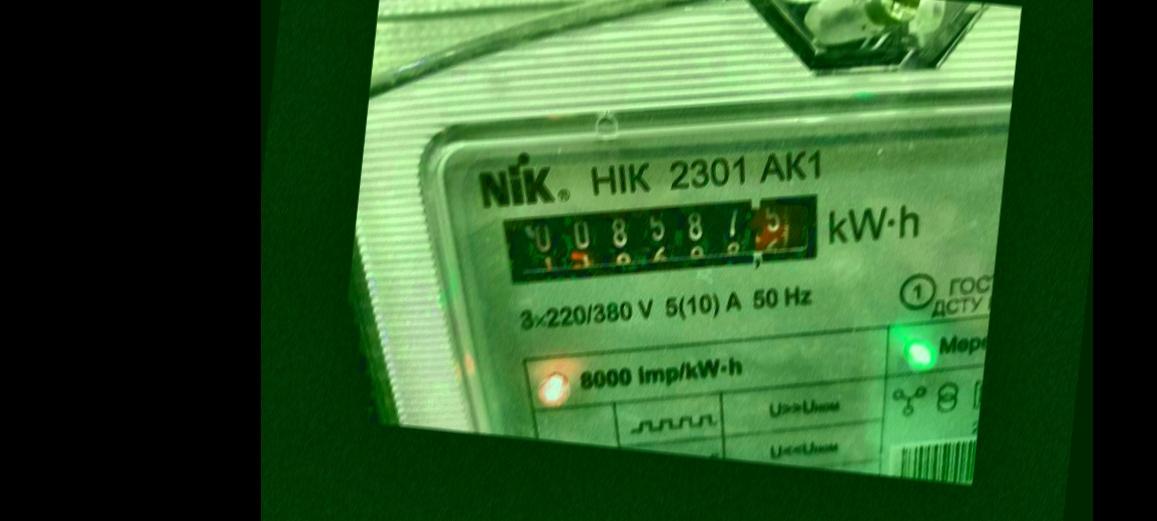0: (566, 214, 595, 250), (528, 218, 557, 252)
5: (643, 209, 669, 242), (759, 199, 784, 232)
6: (762, 234, 781, 253)
7: (719, 204, 744, 240)
8: (605, 214, 633, 248), (680, 207, 707, 242)
screen: (487, 160, 845, 318)
